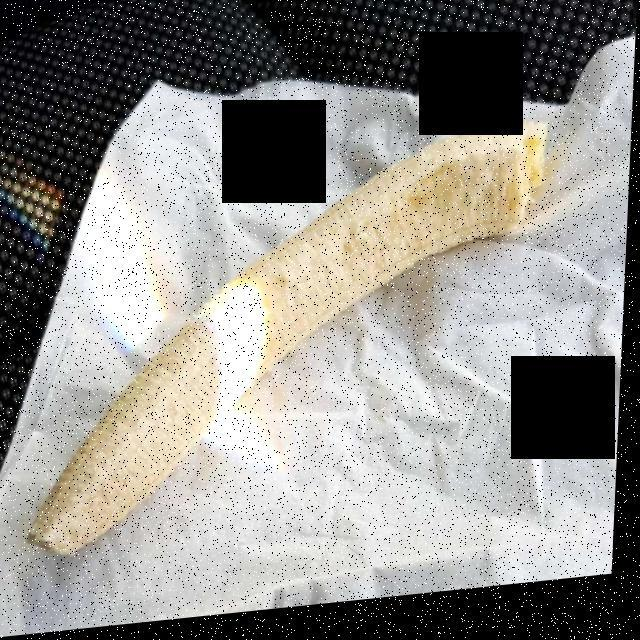banana: (49, 145, 551, 547)
